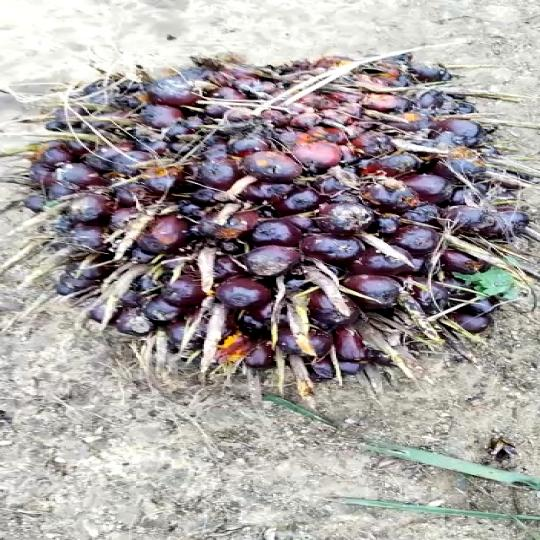kurang masak: (44, 46, 540, 381)
